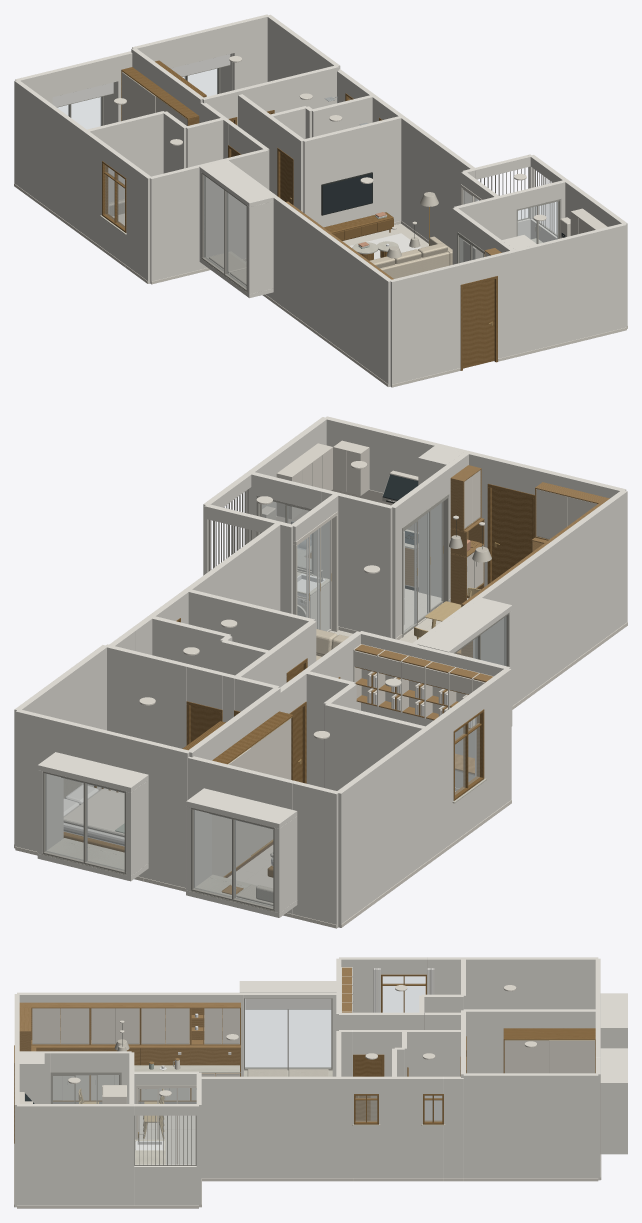
The model's file is huiyayuan-wood.glb.
3 views of the same model, one above another, from view 1: azimuth 30°, elevation 25°; view 2: azimuth 150°, elevation 25°; view 3: azimuth 270°, elevation 25° (orthographic). The views are drawn at different scales.
Visible parts, largest first — view 1: Wall 04 / pier.001, Wall 03 / pier.001, Wall 01 / pier, Wall 13 / pier, Wall 04 / pier, Wall 07 / pier.003, Wall 02 / pier, Wall 09 / pier, Wall 01 / pier.001, entry_door / oak door leaf, Wall 07 / pier, window_living_west / bay solid return.001 (+41 smaller); view 2: Wall 03 / pier.001, Wall 01 / pier, Wall 16 / pier, Wall 10 / pier.002, Wall 00 / pier, Wall 00 / pier.002, Wall 09 / pier, Wall 07 / pier.003, Wall 04 / pier.001, Wall 07 / pier, Wall 00 / pier.003, Wall 13 / pier (+64 smaller); view 3: Wall 07 / pier.003, Wall 07 / pier, Balcony boundary 5 / pier.001, Wall 01 / pier, Wall 07 / pier.002, Wall 08 / pier, Wall 11 / pier, Wall 03 / pier.001, Balcony boundary 5 / sill, window_living_west / bay clear glazing panel.001, window_living_west / bay clear glazing panel, Wall 07 / pier.001 (+61 smaller).
Part boxes in pixels (x1,y1,x2,y2): Wall 04 / pier.001: (495, 223, 626, 358); Wall 03 / pier.001: (271, 195, 392, 386); Wall 01 / pier: (14, 80, 106, 247); Wall 13 / pier: (302, 115, 402, 227); Wall 04 / pier: (390, 263, 460, 387); Wall 07 / pier.003: (392, 110, 474, 249); Wall 02 / pier: (150, 159, 225, 284); Wall 09 / pier: (85, 111, 165, 201); Wall 01 / pier.001: (126, 161, 151, 283); entry_door / oak door leaf: (463, 279, 494, 368); Wall 07 / pier: (267, 14, 340, 81); window_living_west / bay solid return.001: (247, 201, 273, 294); Wall 03 / pier.001: (473, 490, 627, 705); Wall 01 / pier: (336, 710, 453, 927); Wall 16 / pier: (322, 489, 393, 638); Wall 10 / pier.002: (104, 644, 189, 748); Wall 00 / pier: (292, 781, 339, 928); Wall 00 / pier.002: (144, 740, 189, 887); Wall 09 / pier: (324, 702, 427, 790); Wall 07 / pier.003: (175, 522, 281, 624); Wall 04 / pier.001: (324, 416, 490, 586); Wall 07 / pier: (14, 645, 106, 848); Wall 00 / pier.003: (15, 709, 63, 851); Wall 13 / pier: (186, 589, 315, 650); Wall 07 / pier.003: (199, 1076, 353, 1178); Wall 07 / pier: (463, 1073, 598, 1178); Balcony boundary 5 / pier.001: (17, 1104, 131, 1205); Wall 01 / pier: (427, 957, 598, 1009); Wall 07 / pier.002: (379, 1076, 422, 1178); Wall 08 / pier: (463, 1009, 598, 1073); Wall 11 / pier: (384, 1030, 460, 1120); Wall 03 / pier.001: (17, 992, 243, 1076); Balcony boundary 5 / sill: (134, 1164, 196, 1205); window_living_west / bay clear glazing panel.001: (245, 1009, 287, 1067); window_living_west / bay clear glazing panel: (289, 1010, 330, 1067); Wall 07 / pier.001: (444, 1076, 463, 1178).
Bounding box in the file's own units: 8.46 × 2.8 × 14.67.
Materials: 25 (6 with a texture image).
